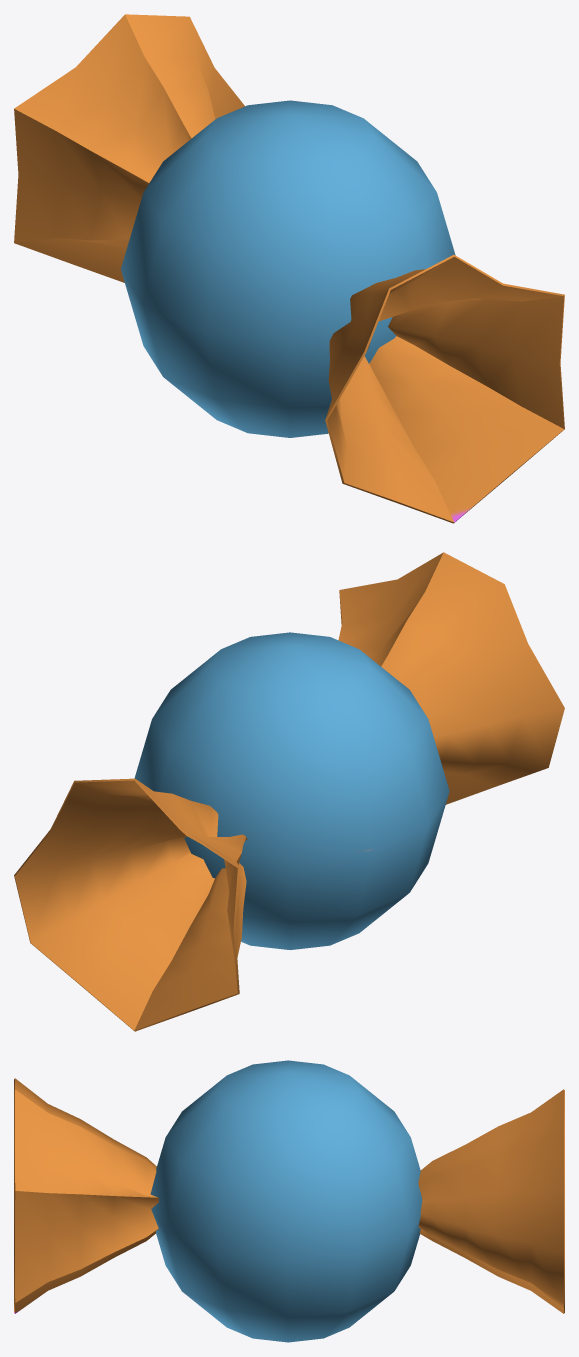
Rendered from Candy_02.FBX.
3 renders of one model, top to bottom at view 1: azimuth 30°, elevation 25°; view 2: azimuth 150°, elevation 25°; view 3: azimuth 270°, elevation 25°, orthographic. The views are drawn at different scales.
Parts seen in each view (by area): view 1: Candy_02; view 2: Candy_02; view 3: Candy_02.
Boxes of the visible parts, left/top/right/bottom form: Candy_02: left=14, top=14, right=564, bottom=523; Candy_02: left=14, top=552, right=564, bottom=1031; Candy_02: left=14, top=1060, right=564, bottom=1342.
Bounding box in the file's own units: 0.304 × 0.304 × 0.5915.
